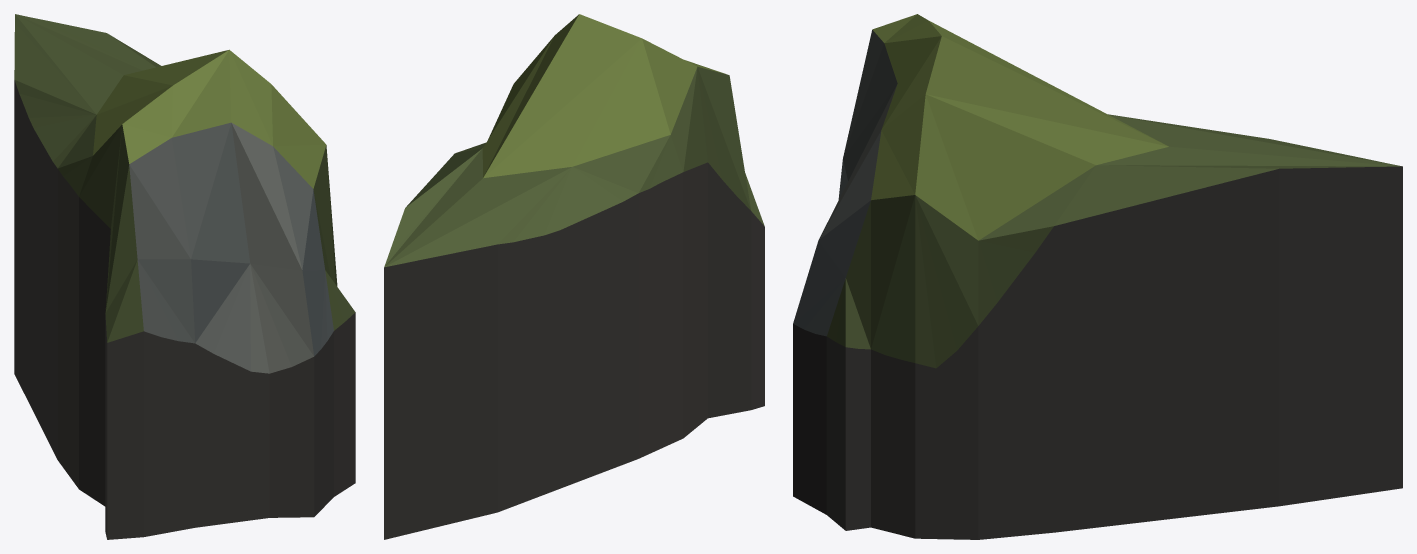
The model's file is cliff_sections_10d_central_wall.glb.
The picture shows the model from 3 angles, left to right: view 1: azimuth 30°, elevation 25°; view 2: azimuth 150°, elevation 25°; view 3: azimuth 270°, elevation 25°; orthographic projection. The views are drawn at different scales.
Parts seen in each view (by area): view 1: Front columns study; view 2: Front columns study; view 3: Front columns study.
Boxes of the visible parts, box(x1,y1,x2,y2) form: Front columns study: box(14, 14, 355, 539); Front columns study: box(384, 14, 764, 539); Front columns study: box(793, 14, 1402, 539).
Bounding box in the file's own units: 51.4 × 79 × 96.56.
